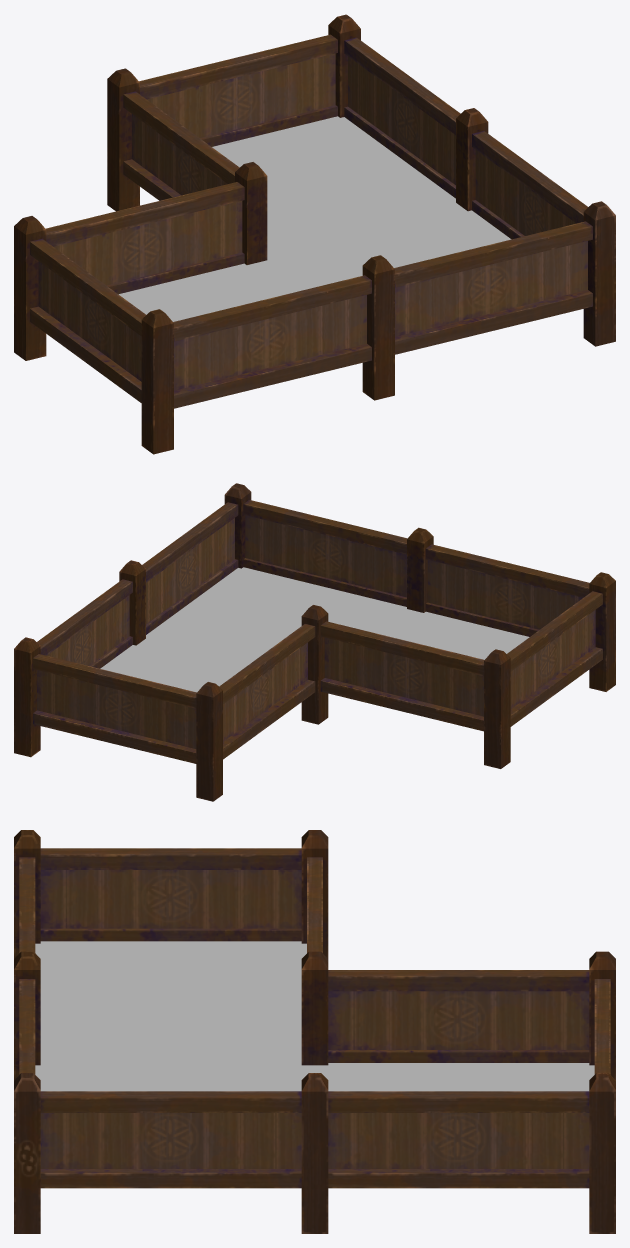
The model's file is Planter 1x3L.fbx.
3 renders of one model, top to bottom at view 1: azimuth 30°, elevation 25°; view 2: azimuth 150°, elevation 25°; view 3: azimuth 270°, elevation 25°, orthographic. The views are drawn at different scales.
Visible parts, largest first — view 1: Planter_1x3 L; view 2: Planter_1x3 L; view 3: Planter_1x3 L.
Part boxes in pixels (x1,y1,x2,y2): Planter_1x3 L: (14, 14, 615, 454); Planter_1x3 L: (14, 483, 615, 801); Planter_1x3 L: (14, 830, 615, 1233).
Bounding box in the file's own units: 209 × 209 × 58.55.
